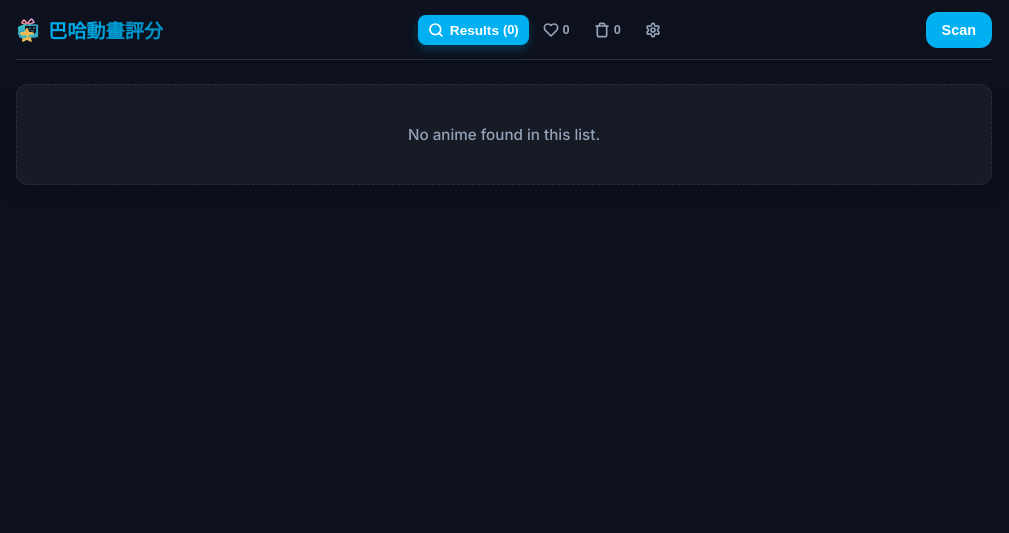
Scan functionality › renders SettingsTab when Settings tab is active
The width and height of the screenshot is (1009, 533).
Click the button "Settings" at {"x": 653, "y": 30}, box [635,15,671,45]
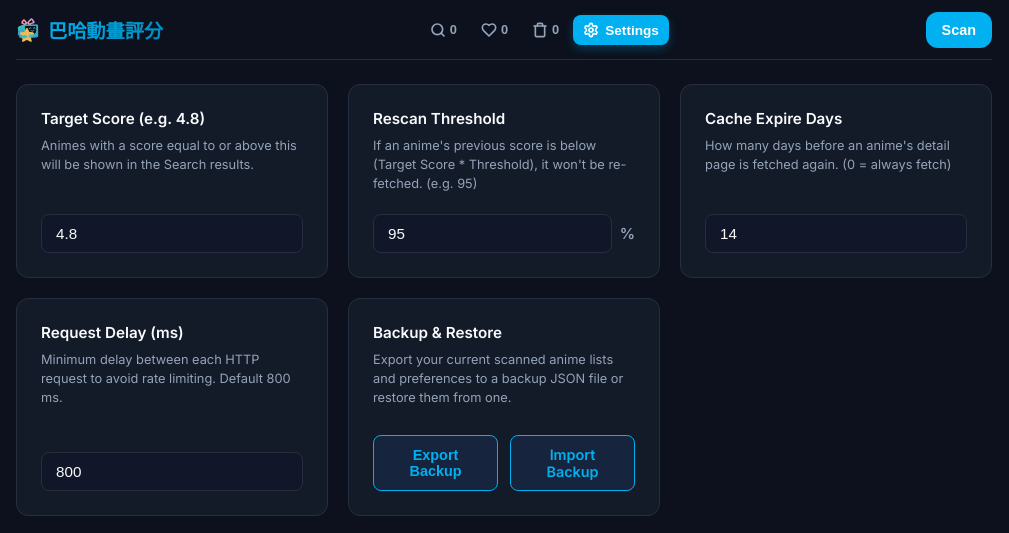
Result: the element with test id "settings-tab" is shown
